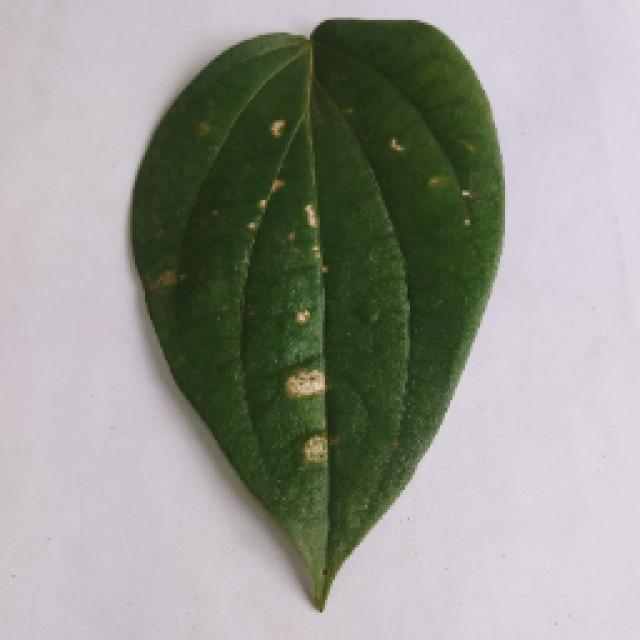pollu-disease: (72, 25, 582, 620)
